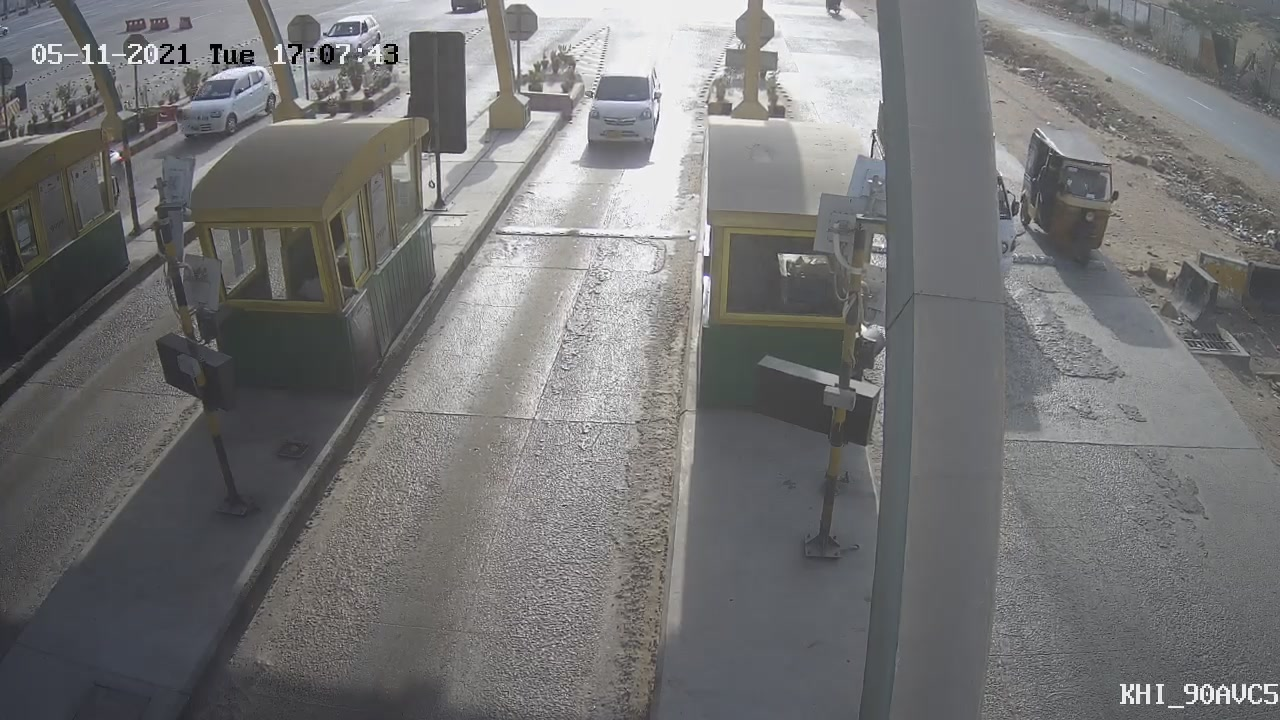F1: (569, 56, 674, 164)
